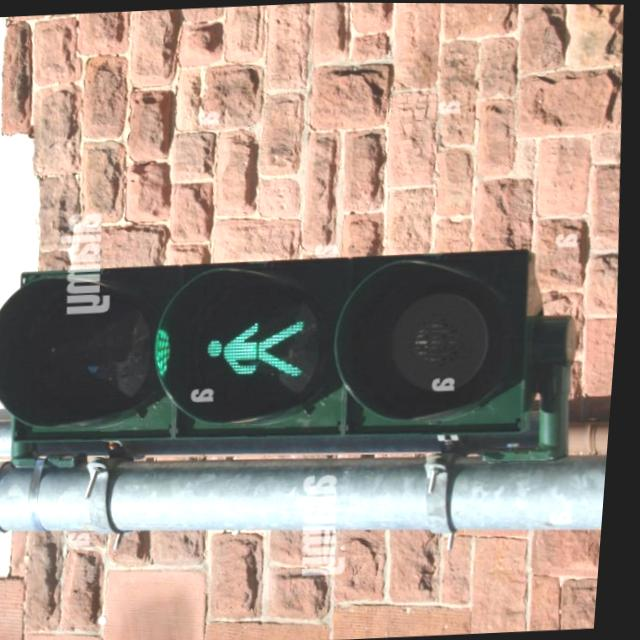green_light: (198, 294, 320, 387)
